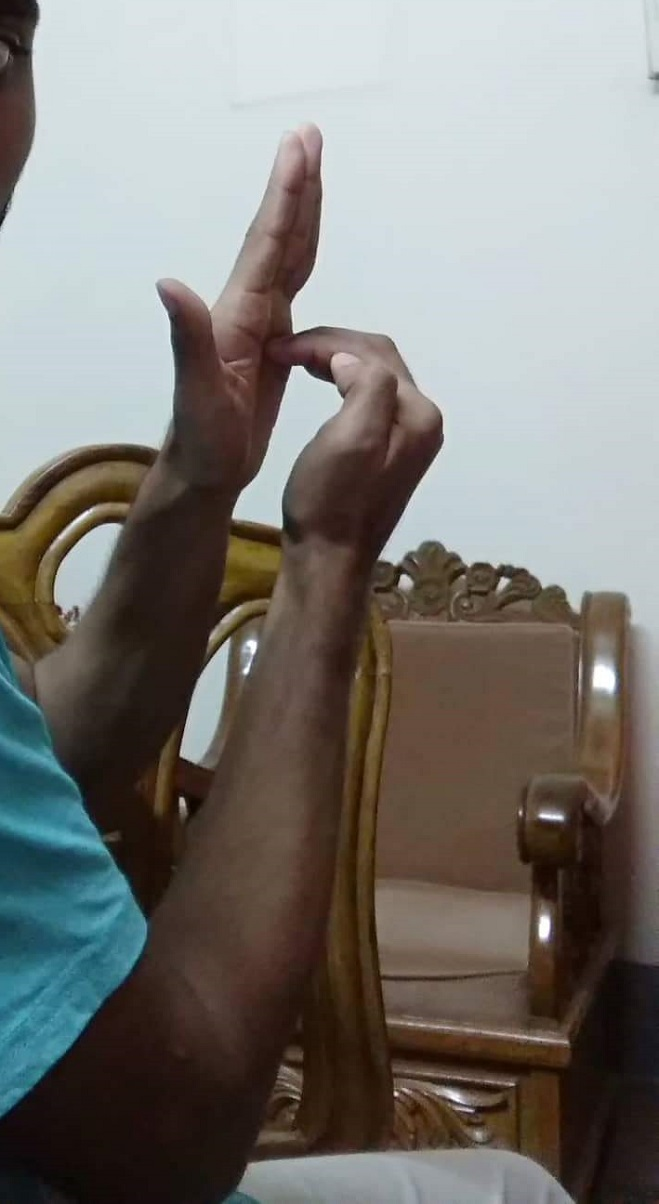ga: (175, 119, 421, 535)
